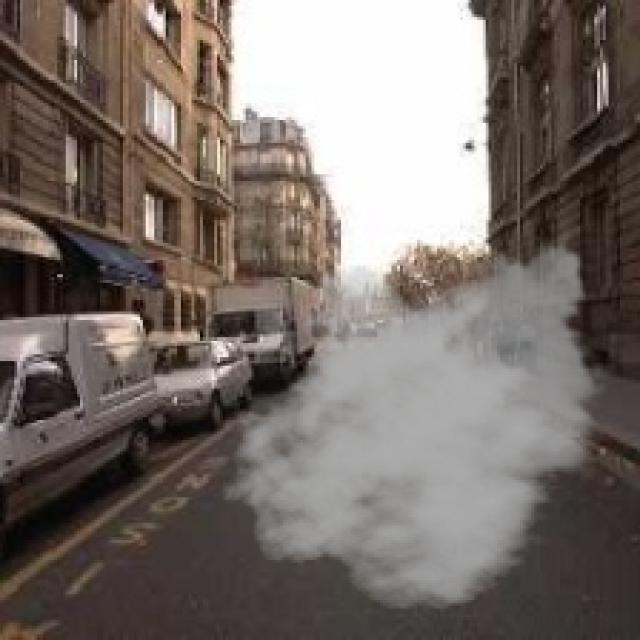smoke: (220, 226, 609, 611)
